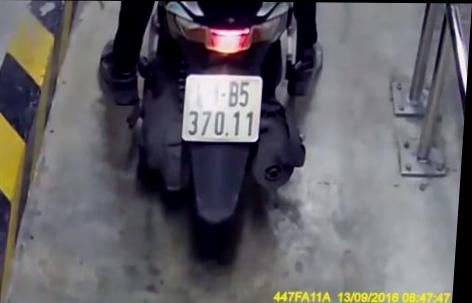License_Plate: (177, 71, 267, 148)
